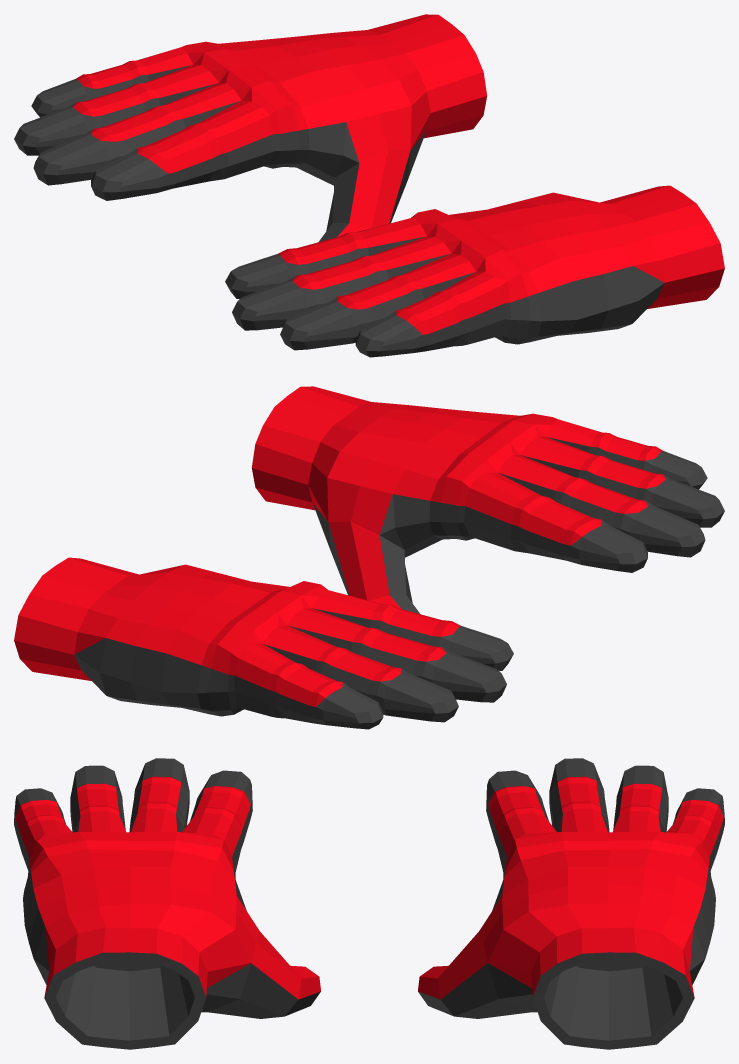
3 renders of one model, top to bottom at view 1: azimuth 30°, elevation 25°; view 2: azimuth 150°, elevation 25°; view 3: azimuth 270°, elevation 25°, orthographic. The views are drawn at different scales.
Visible parts, largest first — view 1: High poly fps arms.003, High poly fps arms.004; view 2: High poly fps arms.004, High poly fps arms.003; view 3: High poly fps arms.003, High poly fps arms.004.
Boxes of the visible parts, x1,y1,x2,y2 form: High poly fps arms.003: (14,14,487,242); High poly fps arms.004: (225,185,724,357); High poly fps arms.004: (251,386,724,614); High poly fps arms.003: (14,557,513,729); High poly fps arms.003: (418,758,724,1049); High poly fps arms.004: (14,758,320,1049).
Size of the model in its own units: 0.3284 by 0.1227 by 0.4541.
